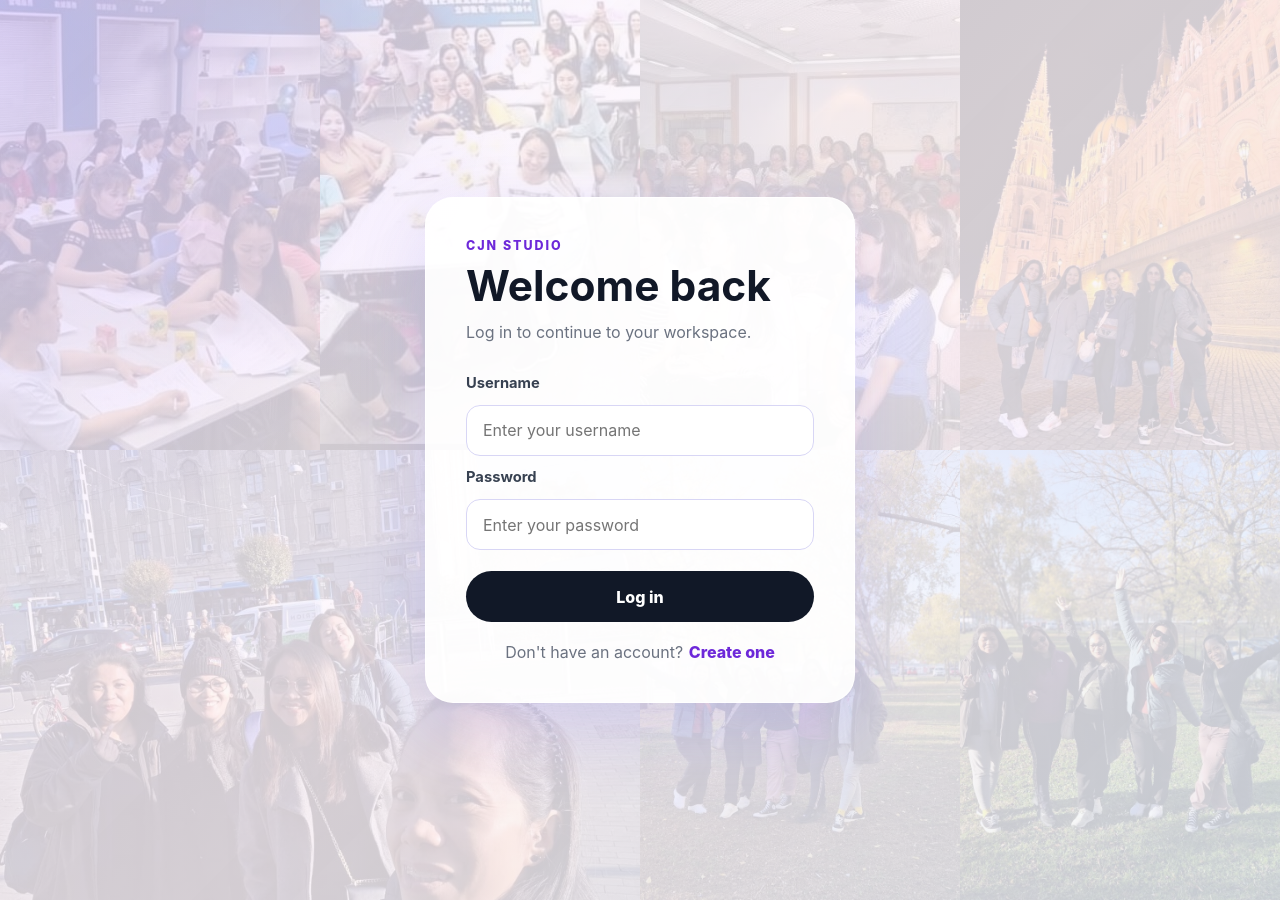
Test: deletes a searched applicant from MongoDB and removes it from results
In the field labelled "Username": x=640, y=430 x1=466 y1=405 x2=814 y2=456, type "wendell"
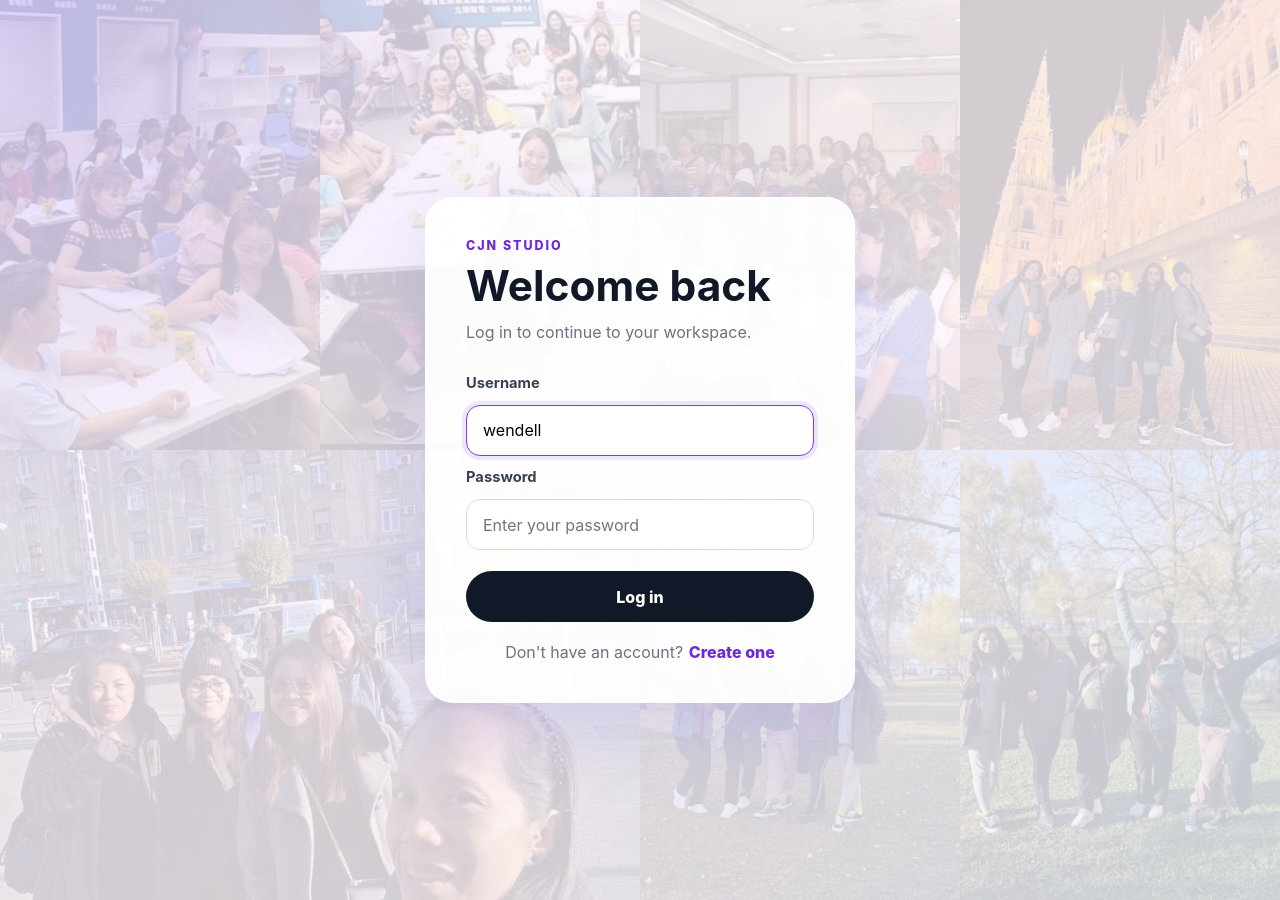
In the password field labelled "Password": x=640, y=524 x1=466 y1=499 x2=814 y2=550, type "password123"
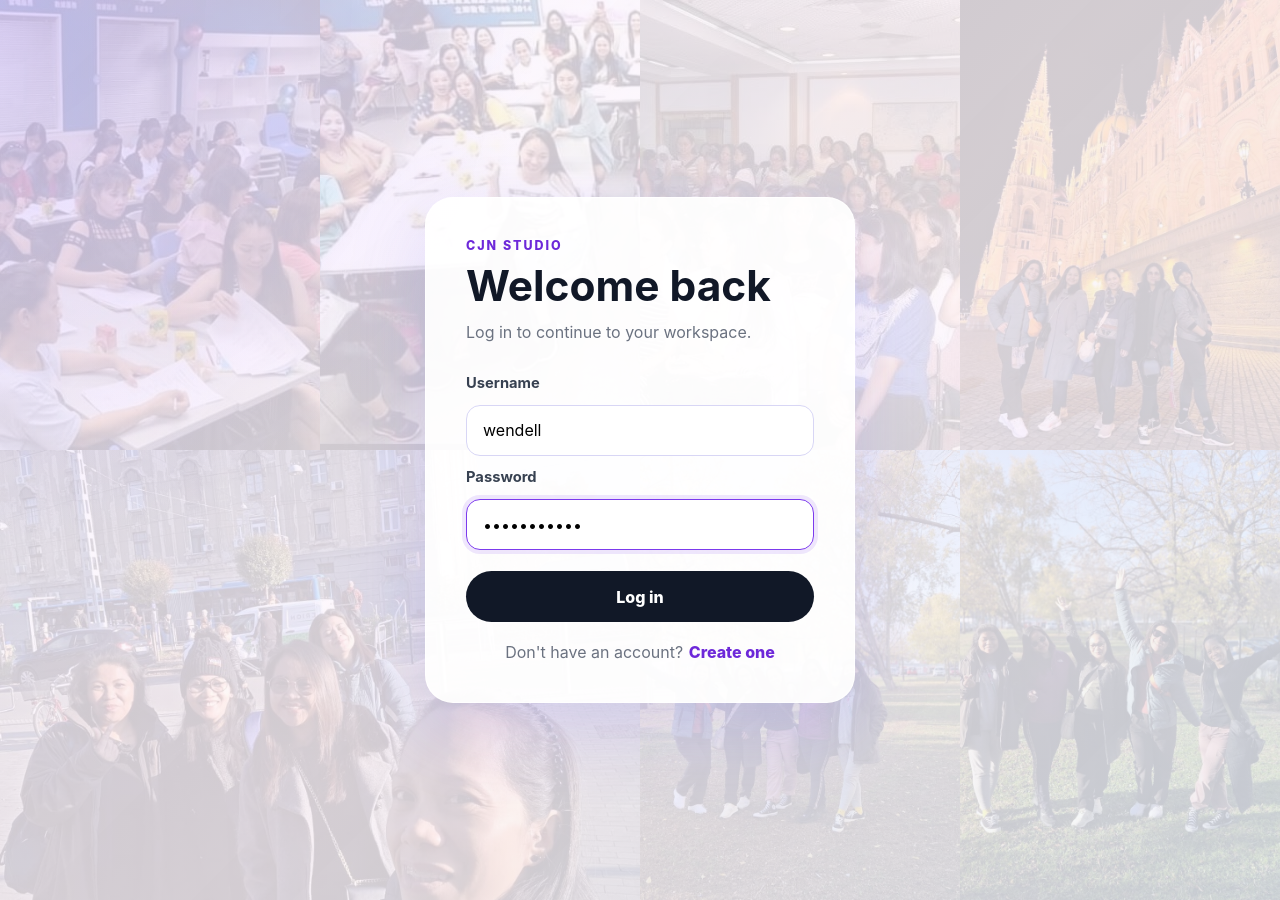
Click the button "Log in": x=640, y=597 x1=466 y1=572 x2=814 y2=622
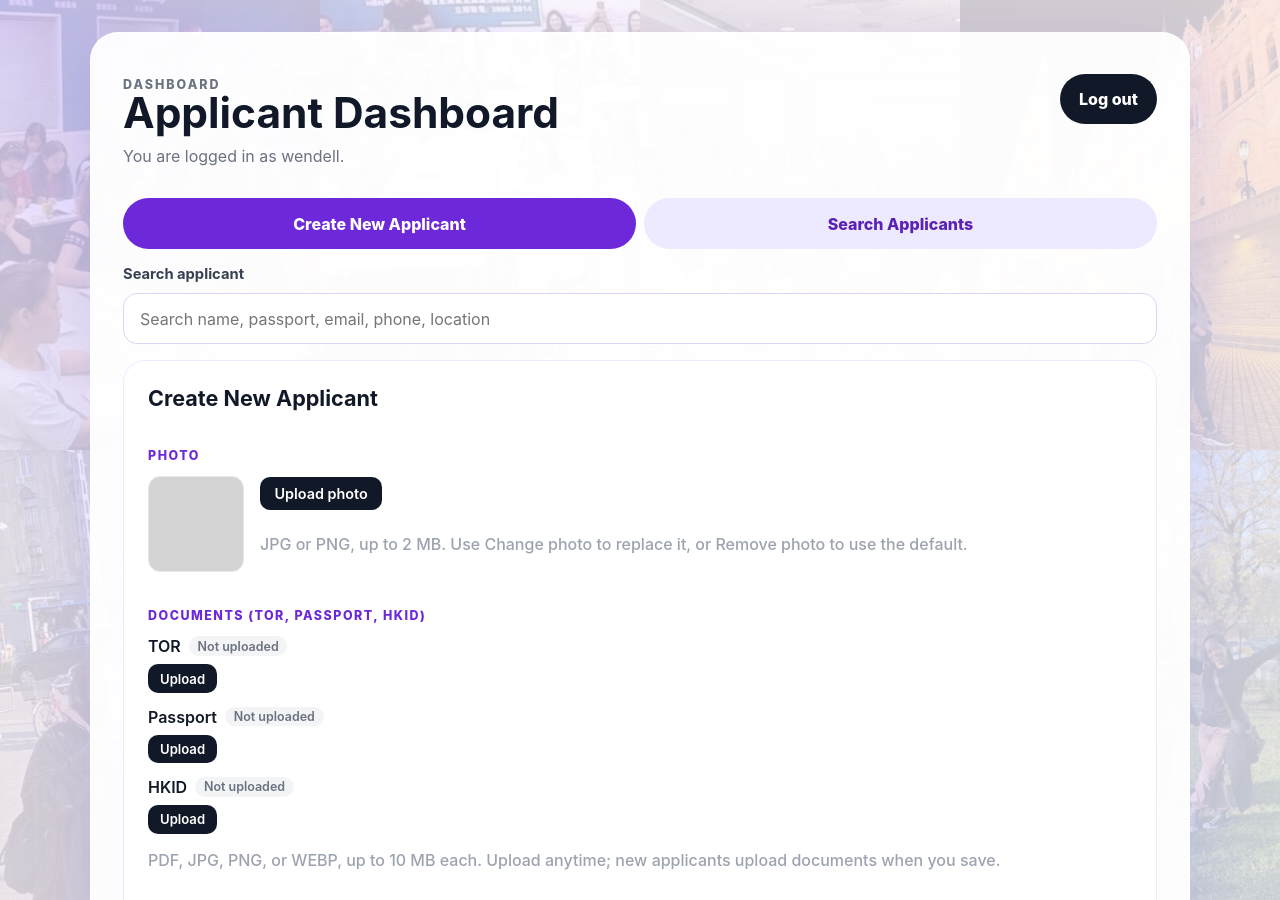
In the field labelled "Search applicant": x=640, y=319 x1=123 y1=293 x2=1157 y2=344, type "Maria"
(page scrolled)
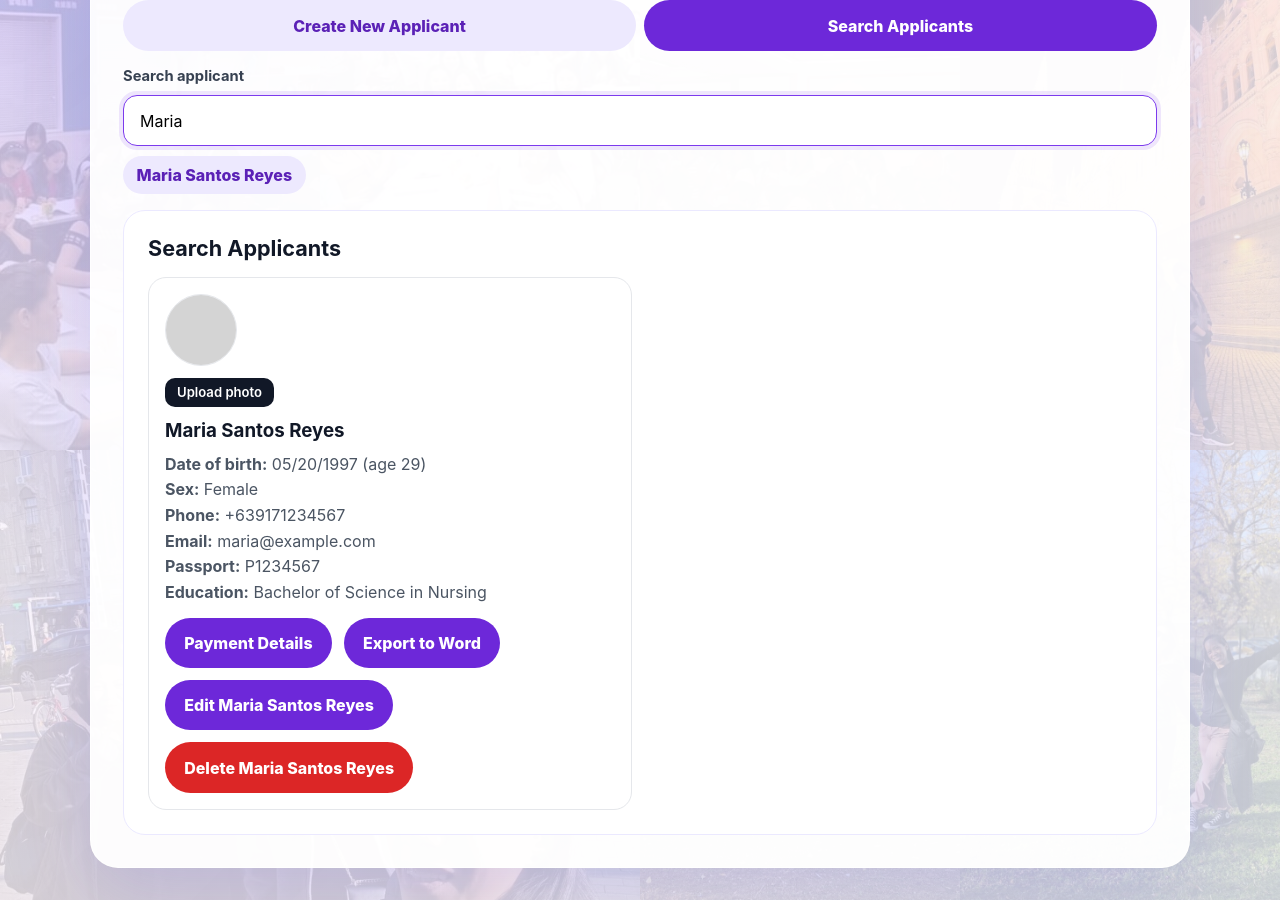
Click the button "Delete Maria Santos Reyes": x=289, y=768 x1=165 y1=742 x2=413 y2=793
(page scrolled)
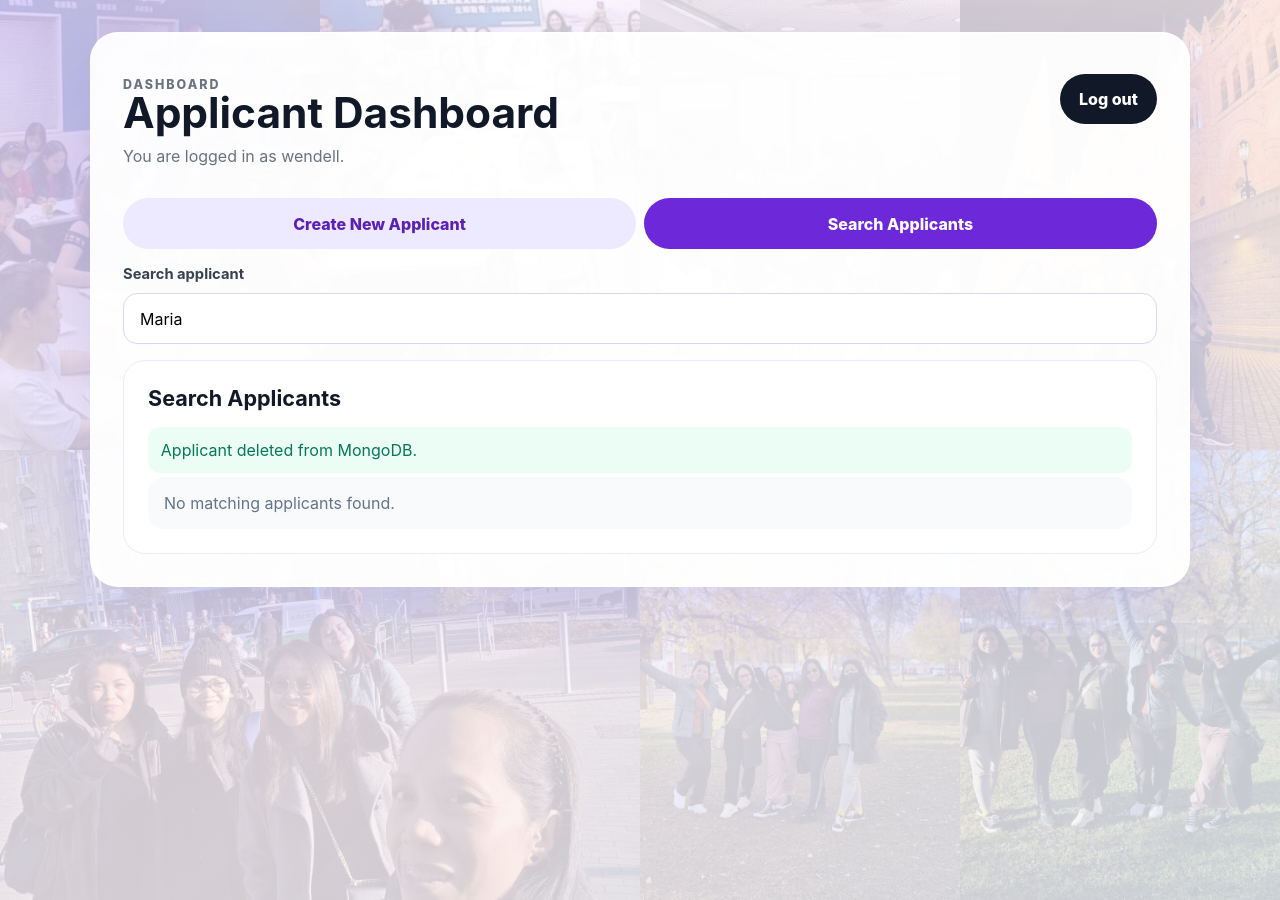
Expected: the button "Maria Santos Reyes" is gone
Expected: the text "No matching applicants found." is shown, x1=148 y1=476 x2=1132 y2=528
